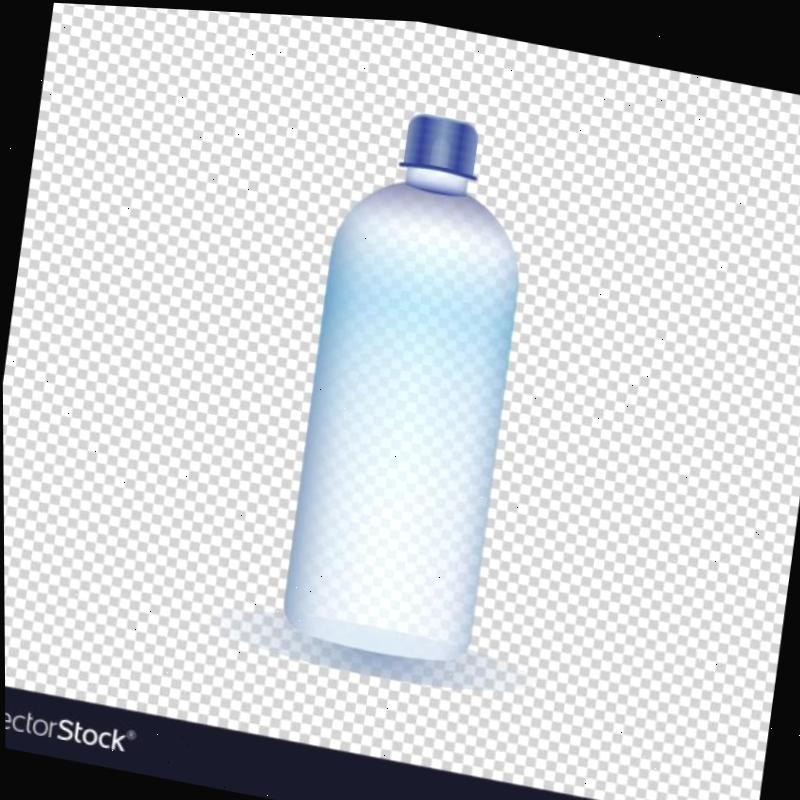botella: (274, 89, 544, 670)
